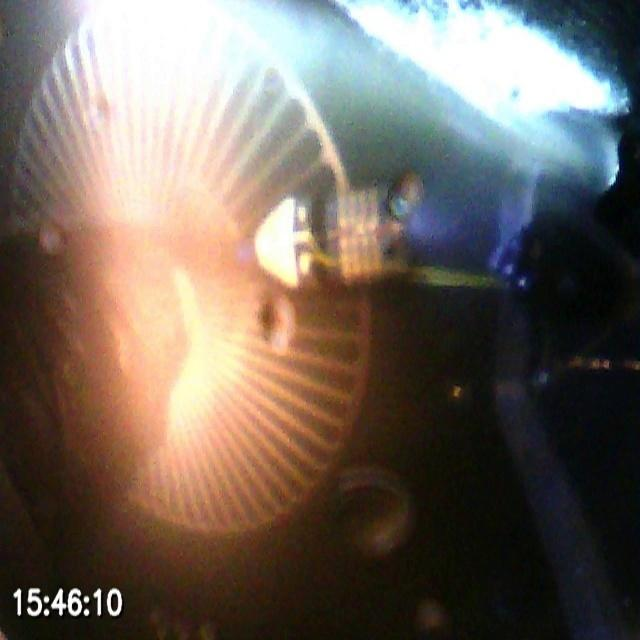head: (255, 187, 412, 289)
